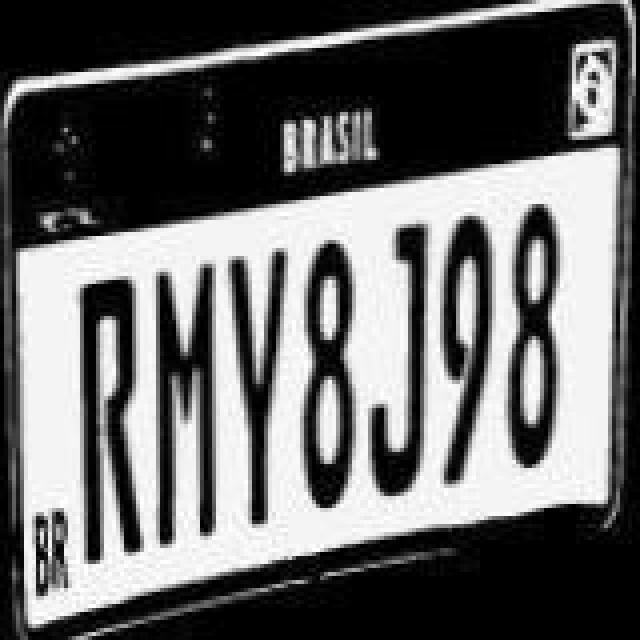8: (292, 240, 360, 512), (500, 202, 568, 470)
9: (428, 212, 496, 488)
J: (358, 216, 438, 500)
M: (150, 258, 226, 546)
R: (78, 274, 146, 566)
Y: (226, 252, 294, 536)
